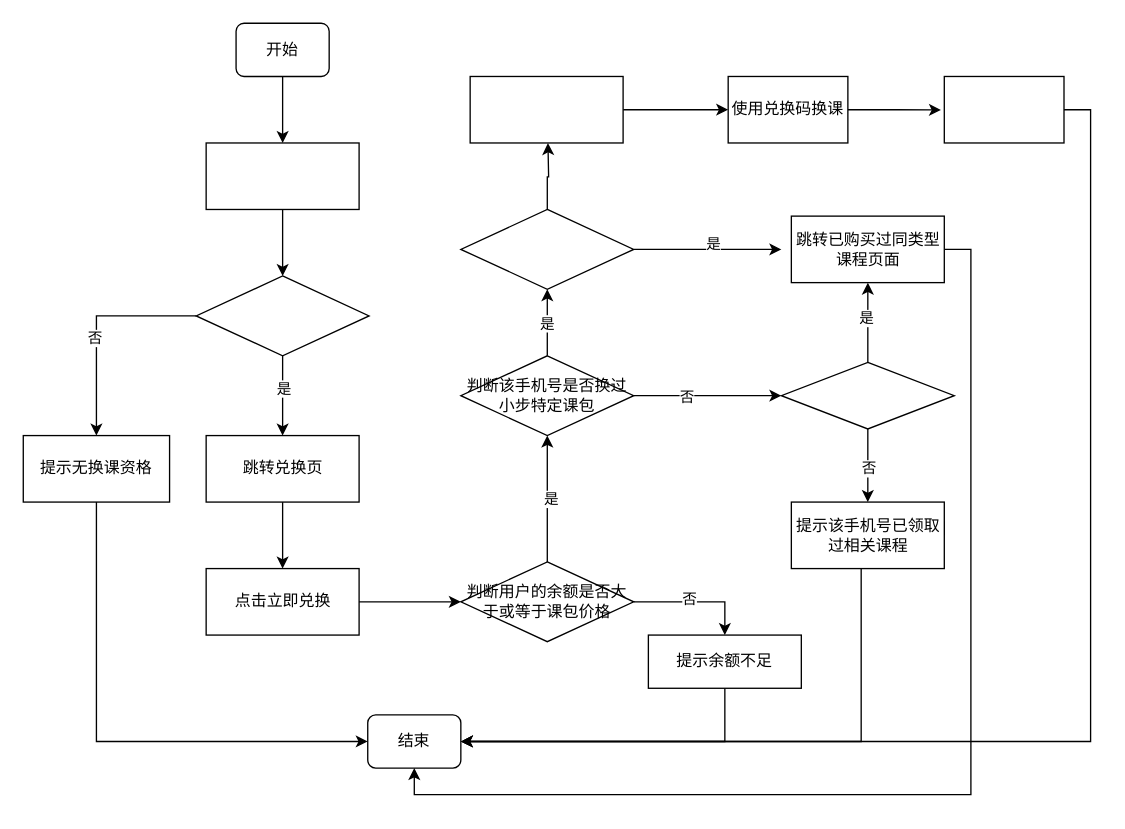
This 1125x829 diagram has some shape labels left out. The shapes that lost their labels are listed below. From the top down, each one's centre as x and y in pixels, then its label:
At (x=546, y=109): "根据课包id领取相应活动的兑换码".
At (x=1003, y=109): "回传小步换课成功结果".
At (x=282, y=175): "用户单点登录".
At (x=547, y=248): "判断该用户是否购买过互斥的进阶课".
At (x=282, y=315): "查询小步接口判断用户是否有换课资格".
At (x=867, y=395): "换课的手机号是否为当前账号uid".
